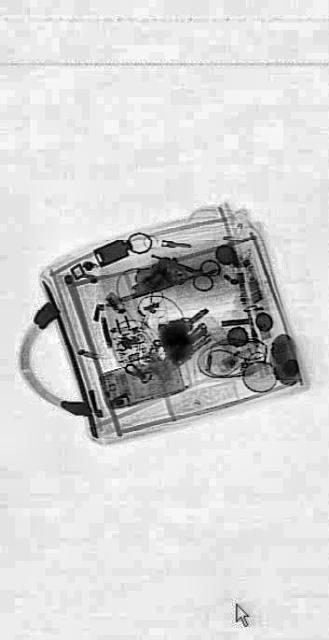Scissors: (168, 240, 220, 296)
